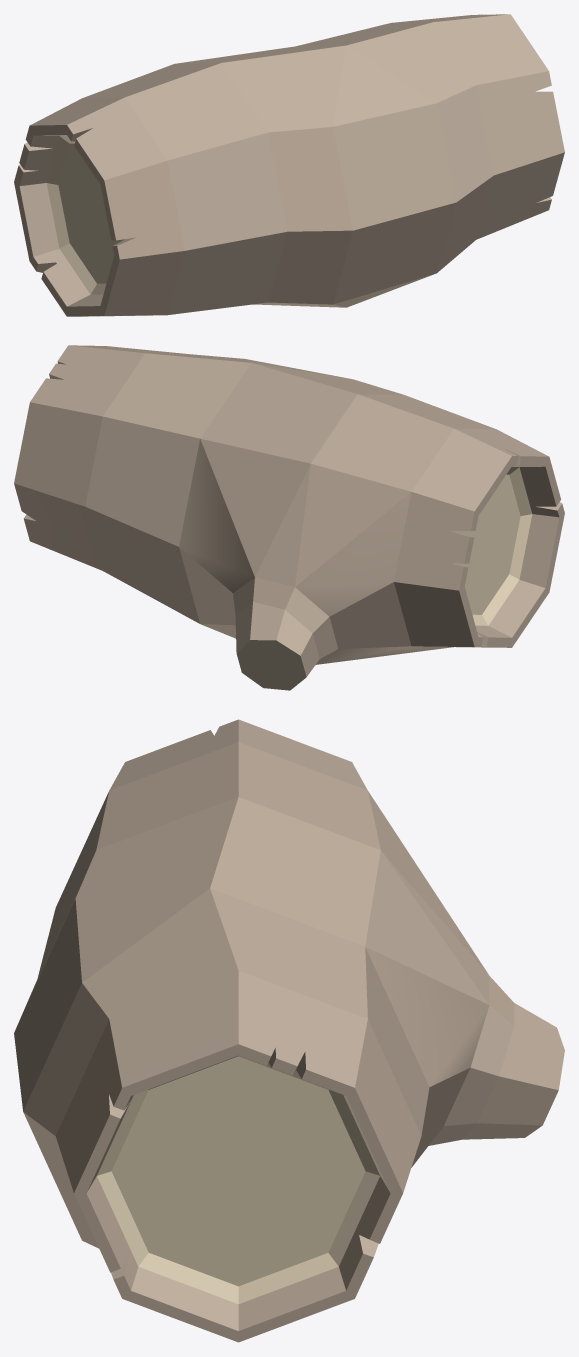
The model's file is Hilly_Prop_Camp_Sitting_Log.glb.
3 renders of one model, top to bottom at view 1: azimuth 30°, elevation 25°; view 2: azimuth 150°, elevation 25°; view 3: azimuth 270°, elevation 25°, orthographic. The views are drawn at different scales.
Parts seen in each view (by area): view 1: Hilly_Prop_Camp_Sitting_Log; view 2: Hilly_Prop_Camp_Sitting_Log; view 3: Hilly_Prop_Camp_Sitting_Log.
Part boxes in pixels (x1,y1,x2,y2): Hilly_Prop_Camp_Sitting_Log: [14, 14, 564, 316]; Hilly_Prop_Camp_Sitting_Log: [14, 345, 564, 690]; Hilly_Prop_Camp_Sitting_Log: [14, 719, 564, 1342].
Bounding box in the file's own units: 1.15 × 0.659 × 0.8152.
